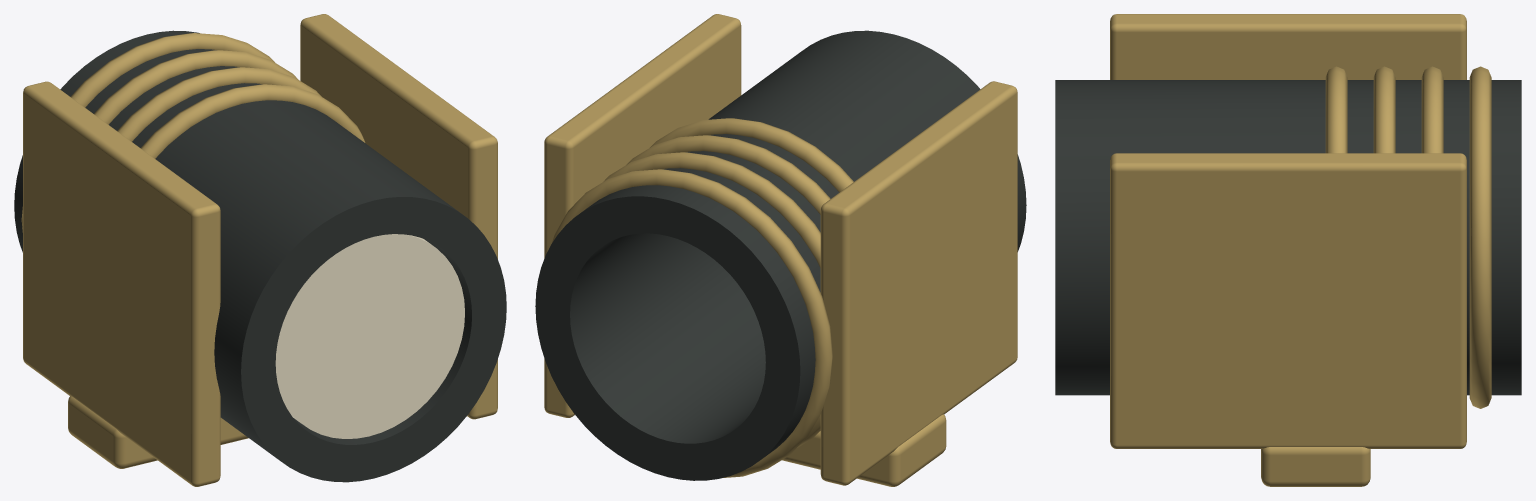
3 renders of one model, left to right at view 1: azimuth 30°, elevation 25°; view 2: azimuth 150°, elevation 25°; view 3: azimuth 270°, elevation 25°, orthographic. The views are drawn at different scales.
Parts seen in each view (by area): view 1: stage-spotlight; view 2: stage-spotlight; view 3: stage-spotlight.
Boxes of the visible parts, x1,y1,x2,y2 form: stage-spotlight: [14, 14, 506, 486]; stage-spotlight: [535, 14, 1026, 486]; stage-spotlight: [1055, 14, 1521, 486].
Size of the model in its own units: 0.27 by 0.265 by 0.34.
